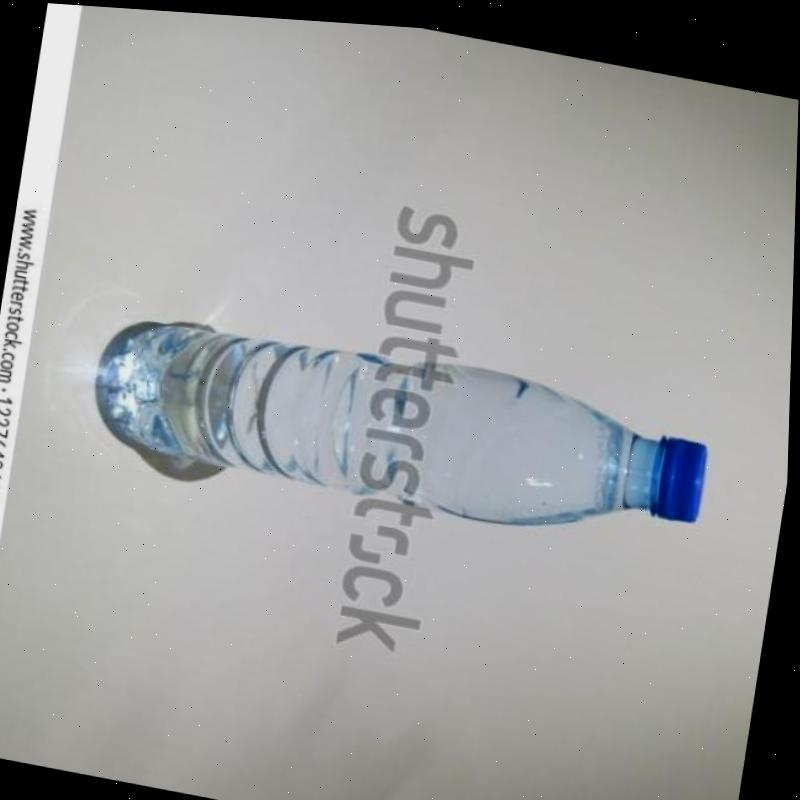botella: (88, 294, 715, 551)
